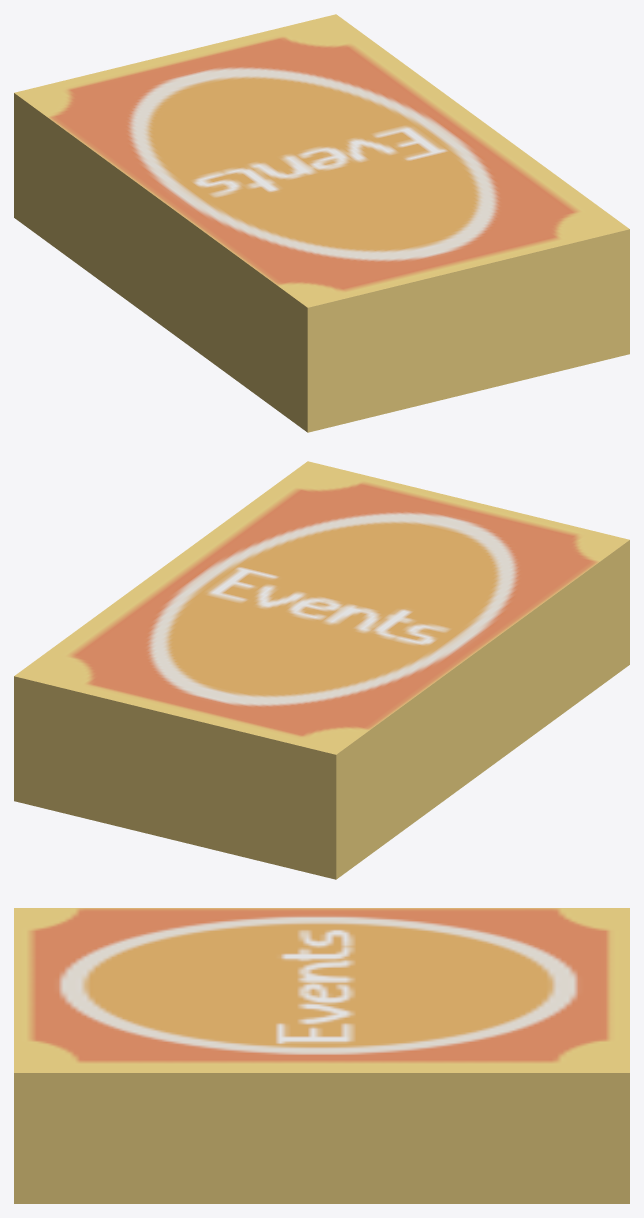
Rendered from Asset_Decks_Events.fbx.
The picture shows the model from 3 angles, top to bottom: view 1: azimuth 30°, elevation 25°; view 2: azimuth 150°, elevation 25°; view 3: azimuth 270°, elevation 25°; orthographic projection. The views are drawn at different scales.
Visible parts, largest first — view 1: Asset_Decks_Events; view 2: Asset_Decks_Events; view 3: Asset_Decks_Events.
Part boxes in pixels (x1,y1,x2,y2): Asset_Decks_Events: (14,14,629,432); Asset_Decks_Events: (14,461,629,879); Asset_Decks_Events: (14,908,629,1203).
Size of the model in its own units: 54.92 by 20.35 by 86.74.
